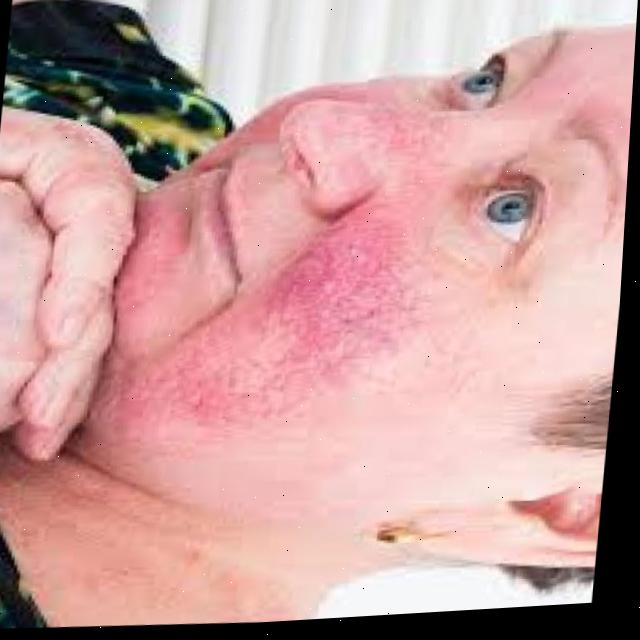Rosacea: (205, 226, 422, 419), (384, 99, 445, 163)
